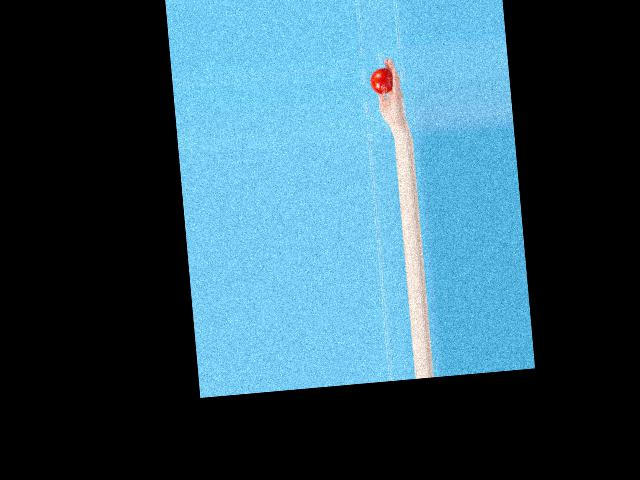tomato: (369, 67, 393, 95)
